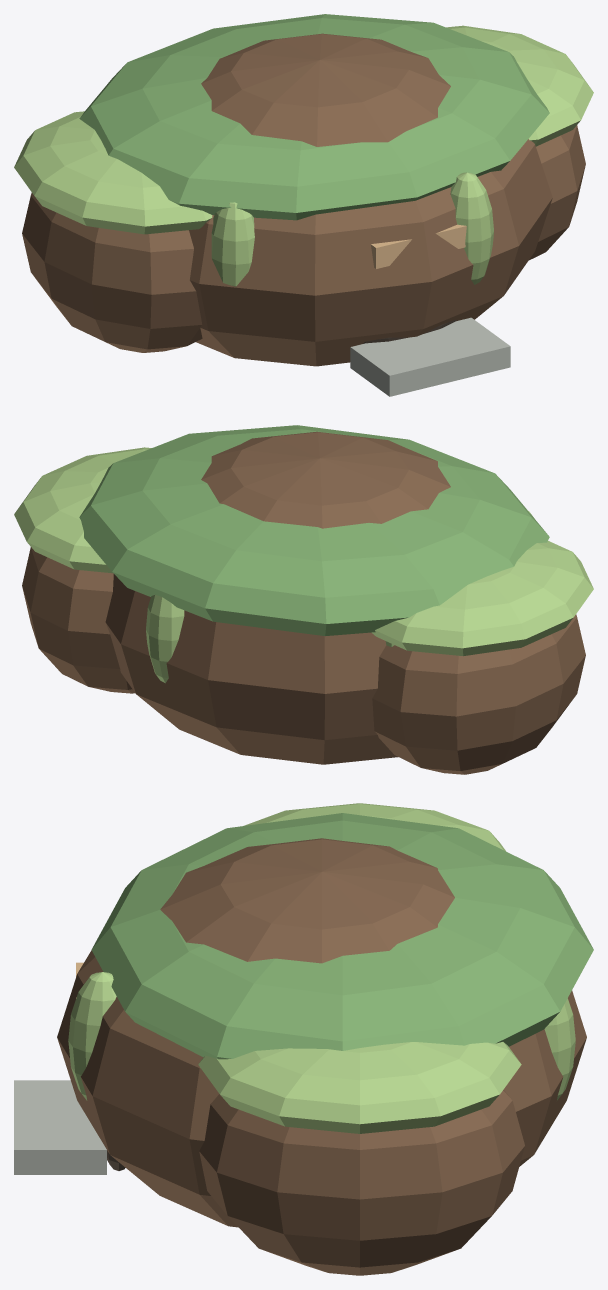
Rendered from AntBurrow2.fbx.
3 views of the same model, one above another, from view 1: azimuth 30°, elevation 25°; view 2: azimuth 150°, elevation 25°; view 3: azimuth 270°, elevation 25° (orthographic). The views are drawn at different scales.
Visible parts, largest first — view 1: Grassy earth mound.001, Moss roof.001, Side earth room, Side leaf roof, Small doorstep.001, Side leaf roof.001, Side earth room.001, Tiny grass sprout.009, Tiny grass sprout.008, Entrance lintel.001; view 2: Moss roof.001, Grassy earth mound.001, Side earth room, Side leaf roof, Side earth room.001, Side leaf roof.001, Tiny grass sprout.006; view 3: Moss roof.001, Grassy earth mound.001, Side earth room.001, Side leaf roof.001, Small doorstep.001, Tiny grass sprout.009, Side leaf roof, Tiny grass sprout.006.
Boxes of the visible parts, box(x1,y1,x2,y2) form: Grassy earth mound.001: box(189, 33, 552, 366); Moss roof.001: box(79, 14, 549, 220); Side earth room: box(22, 192, 202, 352); Side leaf roof: box(14, 111, 212, 234); Small doorstep.001: box(350, 317, 510, 396); Side leaf roof.001: box(446, 25, 593, 146); Side earth room.001: box(529, 125, 585, 260); Tiny grass sprout.009: box(450, 172, 493, 284); Tiny grass sprout.008: box(211, 202, 254, 286); Entrance lintel.001: box(371, 224, 466, 268); Moss roof.001: box(79, 425, 549, 636); Grassy earth mound.001: box(105, 431, 450, 764); Side earth room: box(372, 614, 585, 774); Side leaf roof: box(371, 541, 593, 656); Side earth room.001: box(22, 547, 134, 693); Side leaf roof.001: box(14, 447, 151, 573); Tiny grass sprout.006: box(146, 594, 184, 683); Moss roof.001: box(91, 813, 593, 1059); Grassy earth mound.001: box(57, 838, 586, 1227); Side earth room.001: box(199, 1089, 524, 1275); Side leaf roof.001: box(198, 1042, 521, 1133); Small doorstep.001: box(14, 1080, 106, 1174); Tiny grass sprout.009: box(68, 972, 116, 1100); Side leaf roof: box(244, 803, 505, 851); Tiny grass sprout.006: box(544, 998, 575, 1100).
Bounding box in the file's own units: 214 × 106 × 169.
